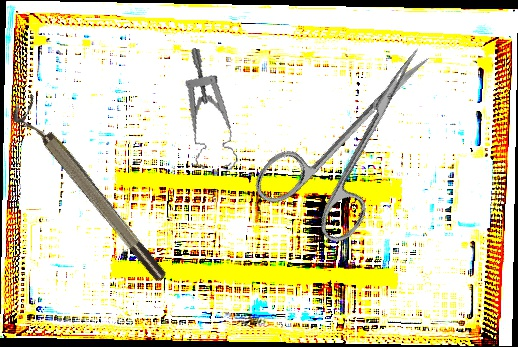Fixation Ring: (6, 92, 171, 292)
Iris Scissors: (247, 20, 470, 257)
Speculum: (167, 47, 259, 176)
